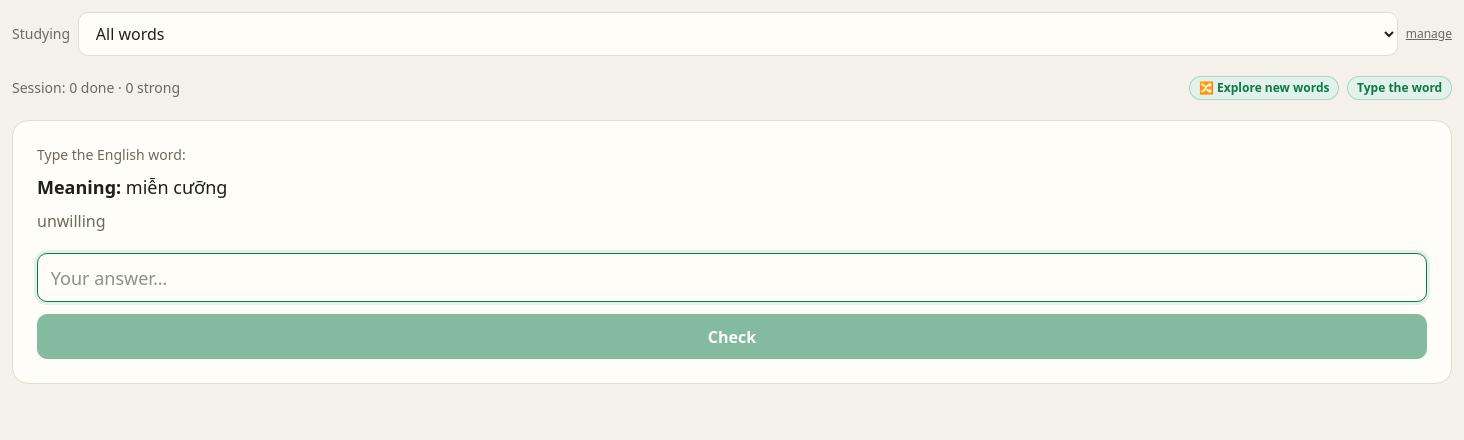
PracticePage — Enter-to-submit shows the verdict and does not auto-advance › a fresh, deliberate Enter after the verdict advances to the next word
This screenshot has width=1464, height=440.
Type "reluctant" into the field with placeholder "Your answer…". click: (732, 278)
box: [37,253,1427,302]
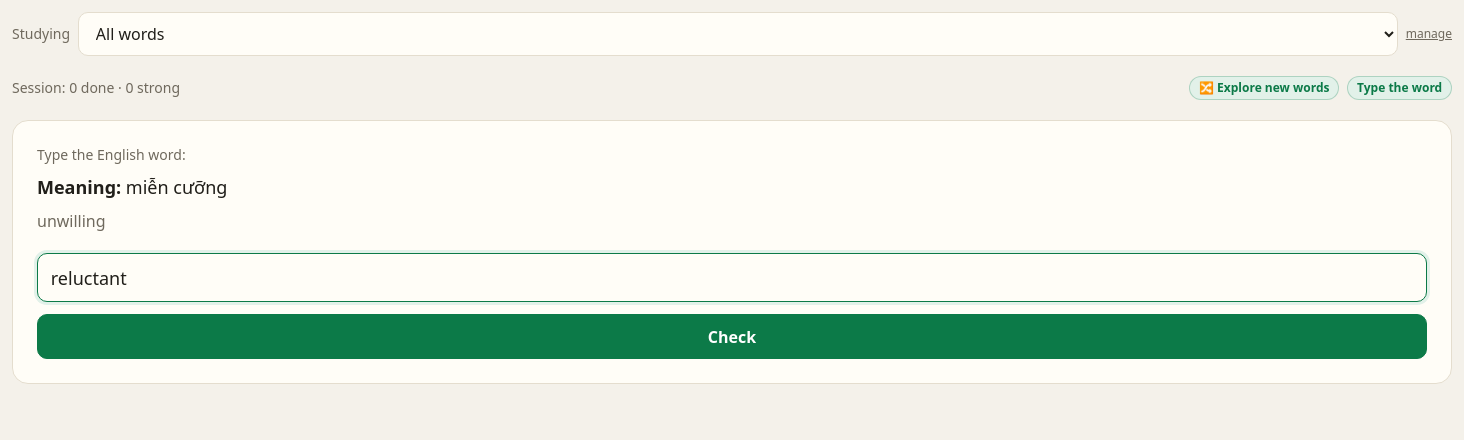
Press Enter in the field with placeholder "Your answer…", box [37,253,1427,302]
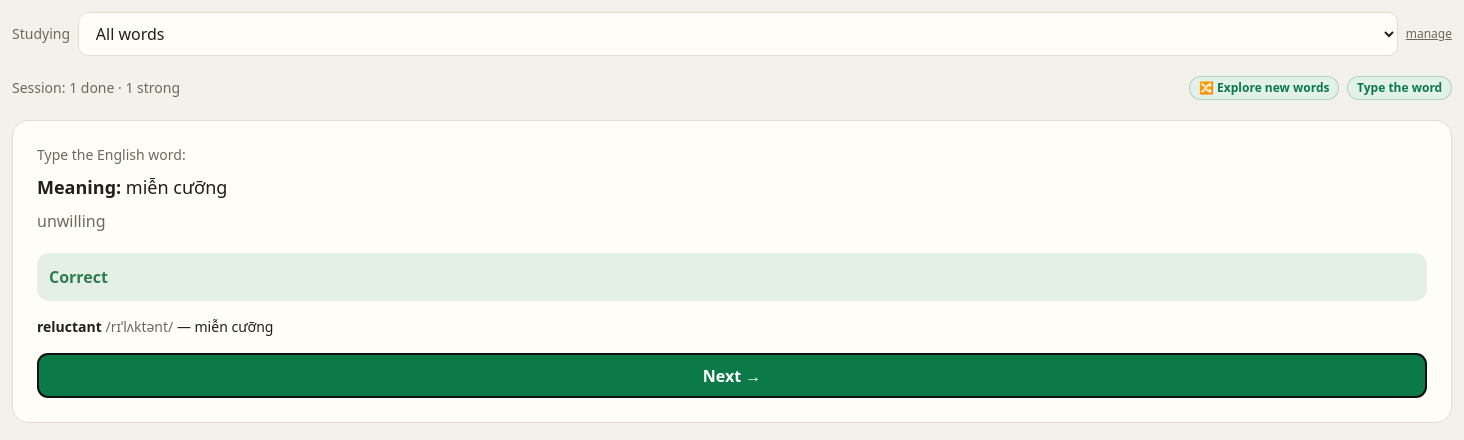
Press Enter in the button "Next →", box [37,353,1427,398]
Click the button "Next →". click: (732, 376)
box: [37,353,1427,398]
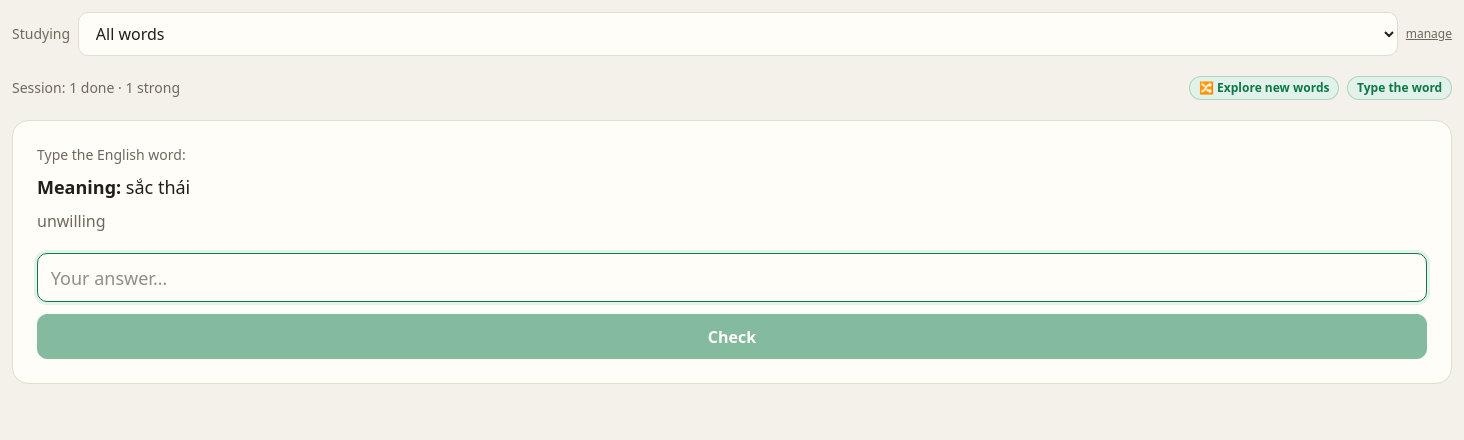
Now the text "Meaning: sắc thái" is shown, box [37,175,190,199]
